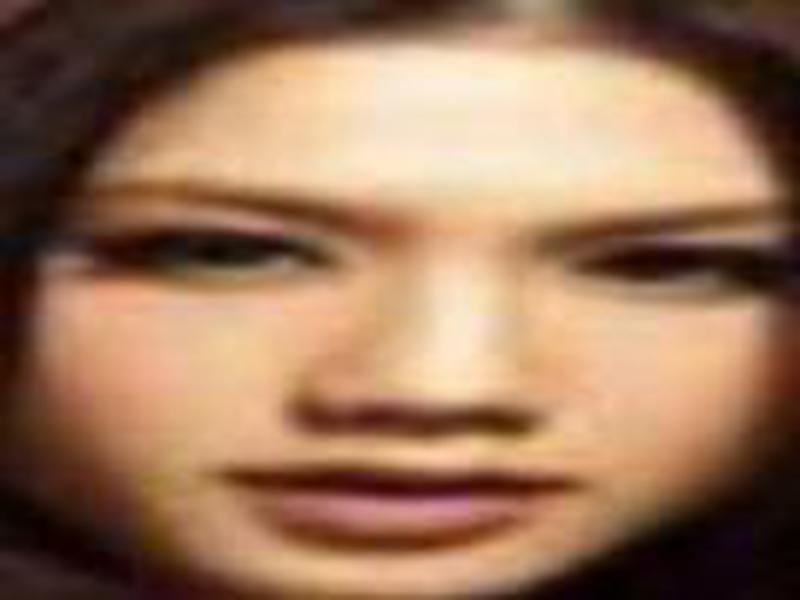without_mask: (55, 44, 776, 591)
